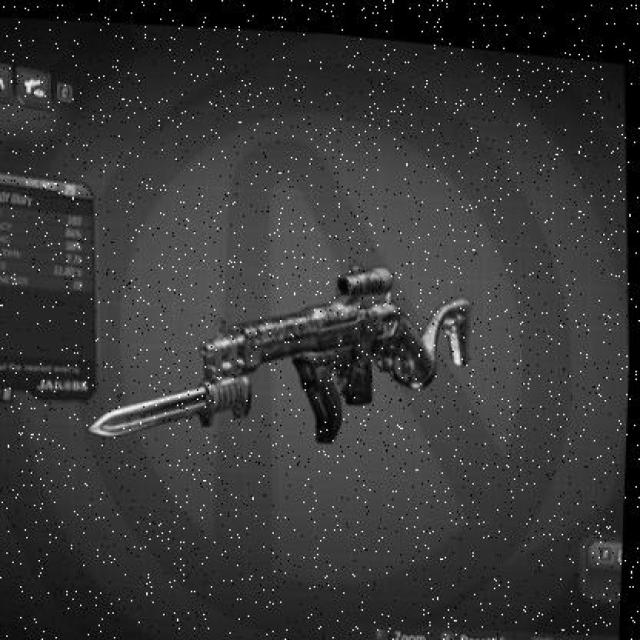weapon: (87, 265, 478, 444)
